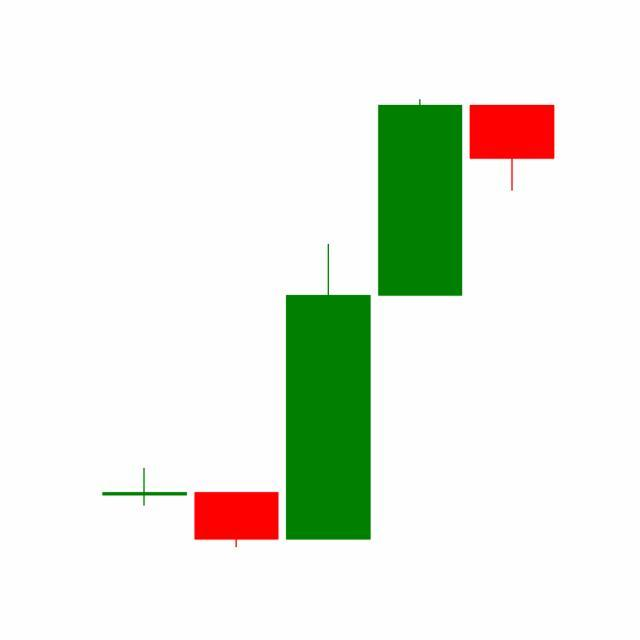Marubozu: (374, 98, 468, 299)
